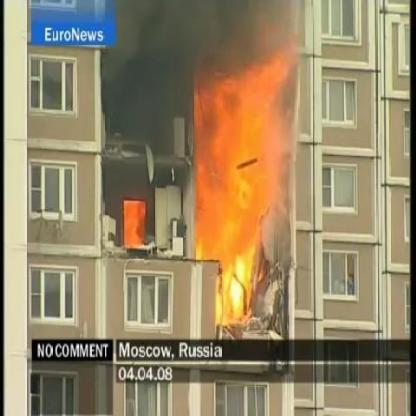fire: (195, 47, 288, 318), (125, 200, 147, 250)
